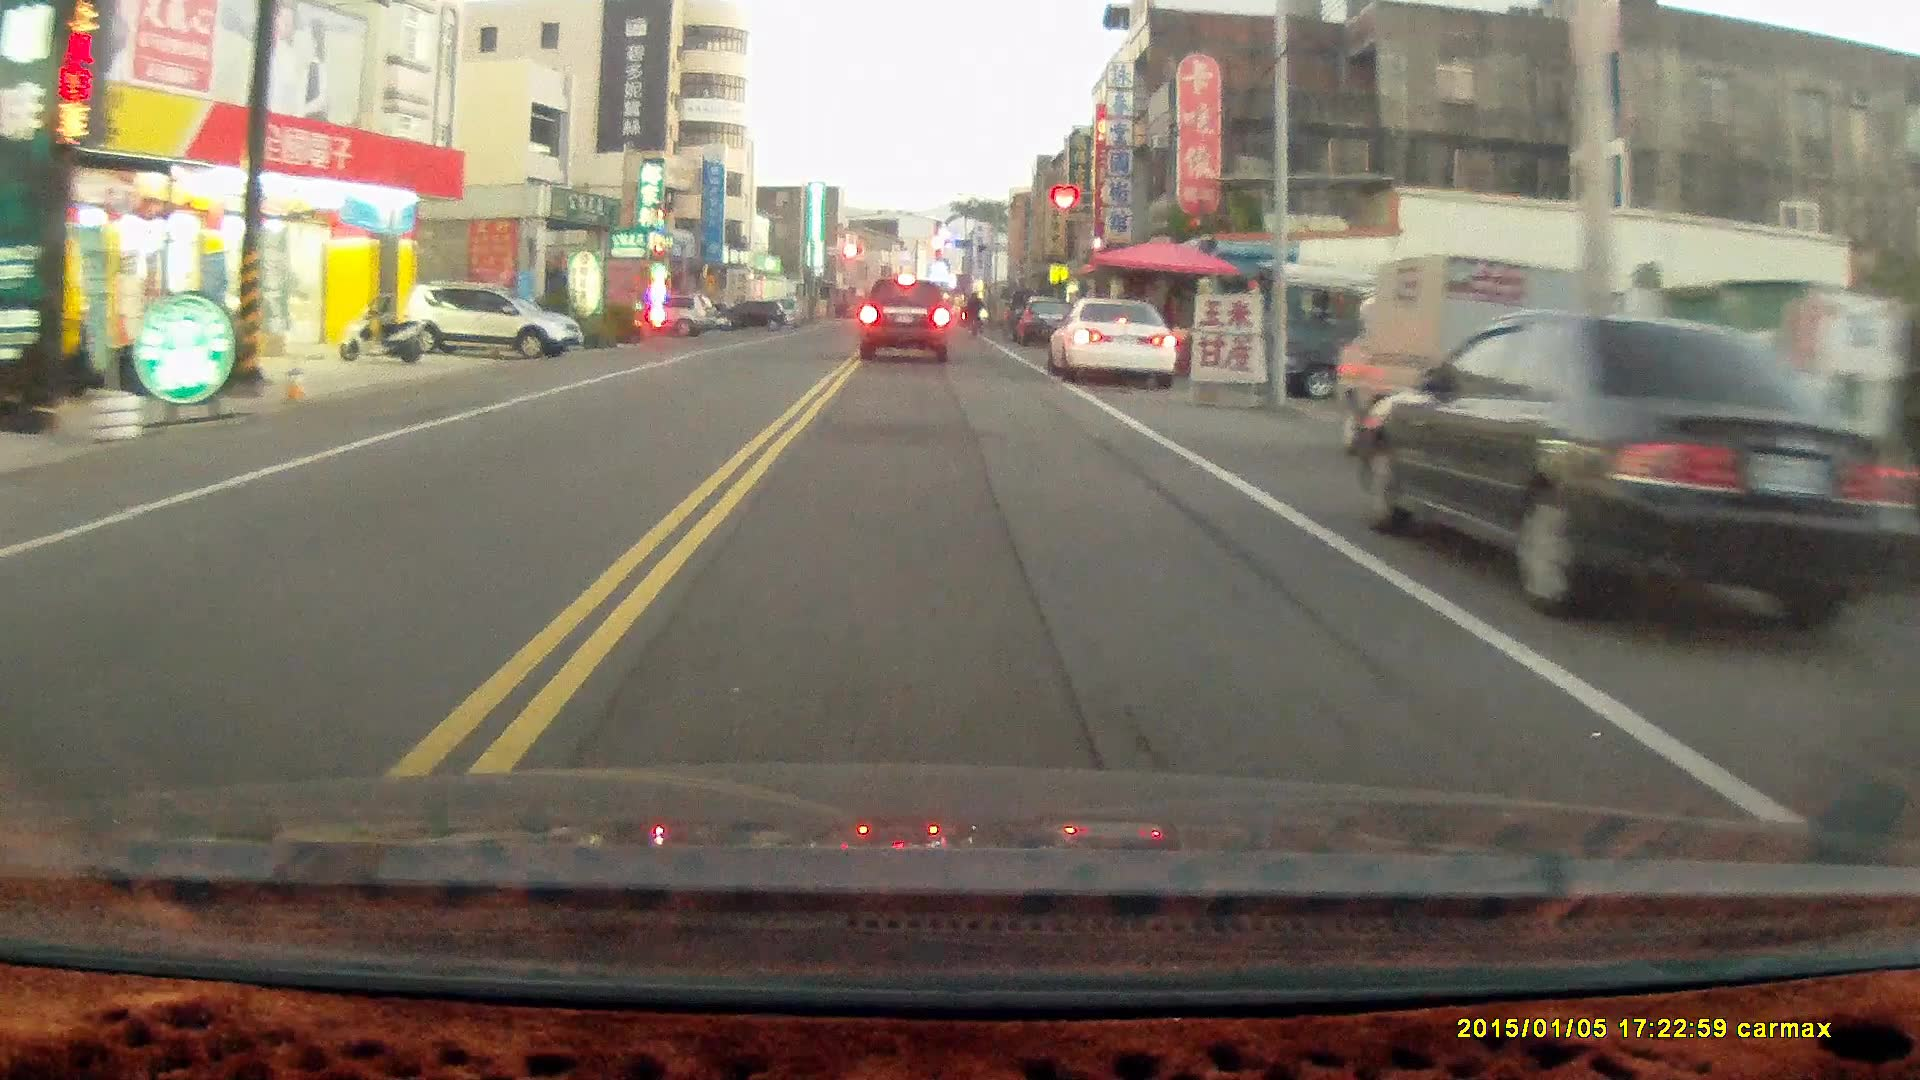vehicle: (1352, 311, 1920, 632), (1338, 252, 1590, 431), (397, 280, 580, 361), (1047, 297, 1179, 392), (858, 276, 952, 367)
